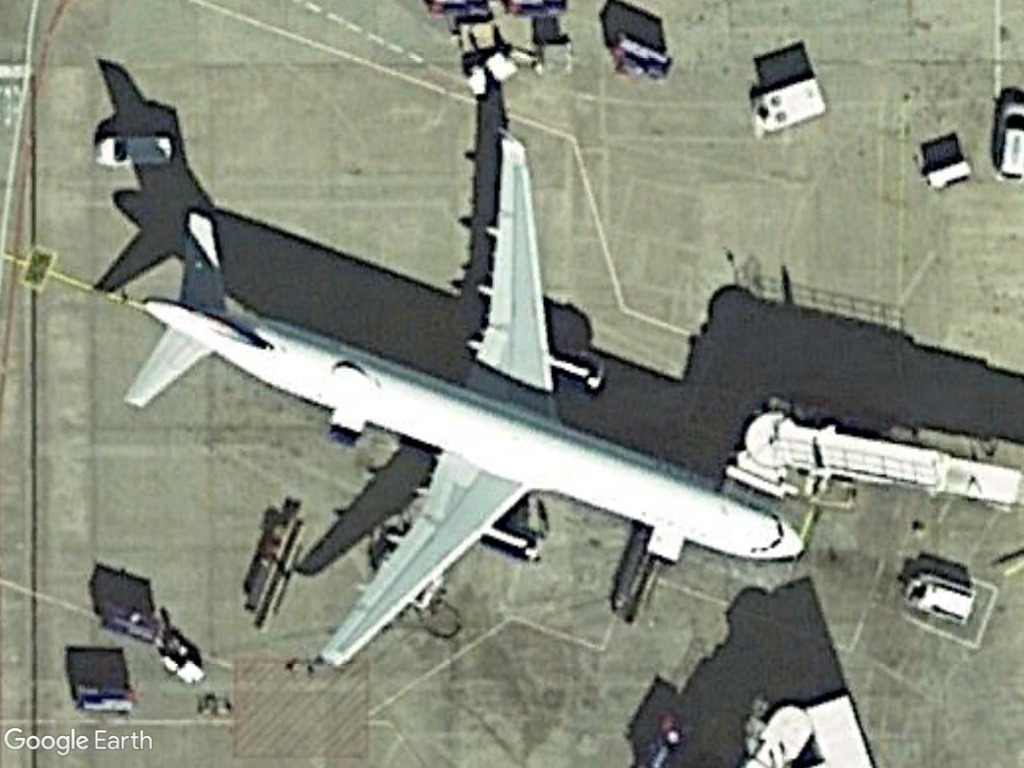airliner: (114, 125, 812, 670)
van: (84, 127, 181, 173)
